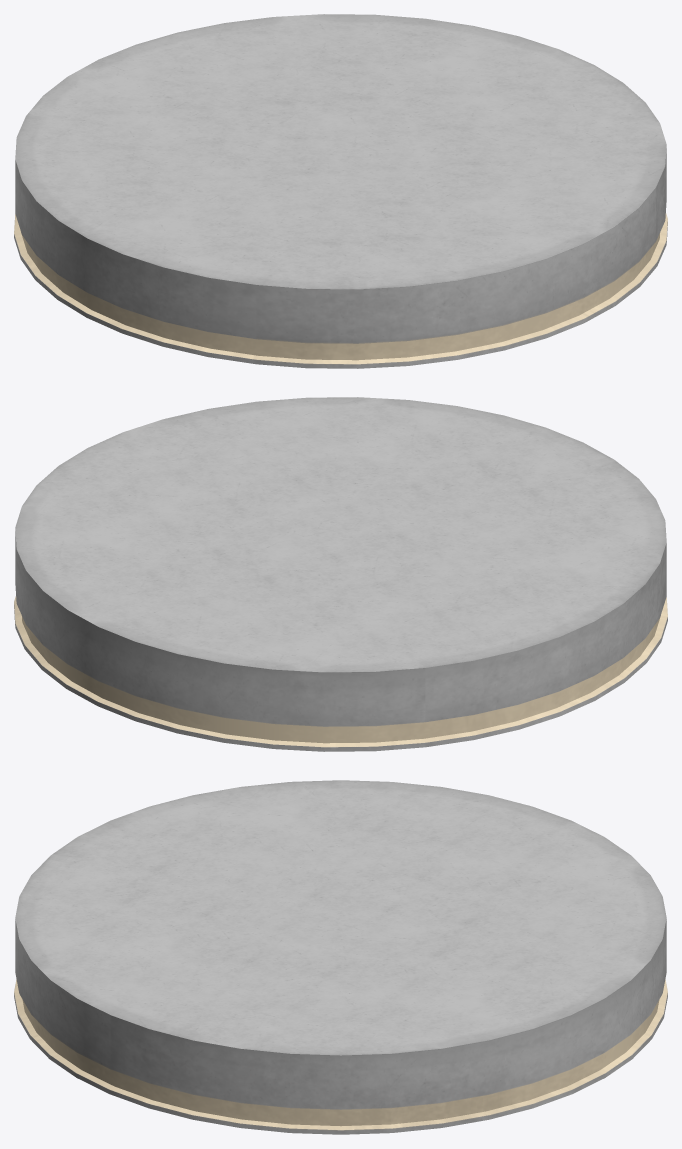
Rendered from Peana_v2_MEI.glb.
The picture shows the model from 3 angles, top to bottom: view 1: azimuth 30°, elevation 25°; view 2: azimuth 150°, elevation 25°; view 3: azimuth 270°, elevation 25°; orthographic projection.
Parts seen in each view (by area): view 1: Cylinder041; view 2: Cylinder041; view 3: Cylinder041.
Part boxes in pixels (x1,y1,x2,y2): Cylinder041: [14, 14, 667, 368]; Cylinder041: [14, 397, 667, 751]; Cylinder041: [14, 780, 667, 1134].
Size of the model in its own units: 1.51 by 0.2 by 1.51.
1 material, 1 textured.
